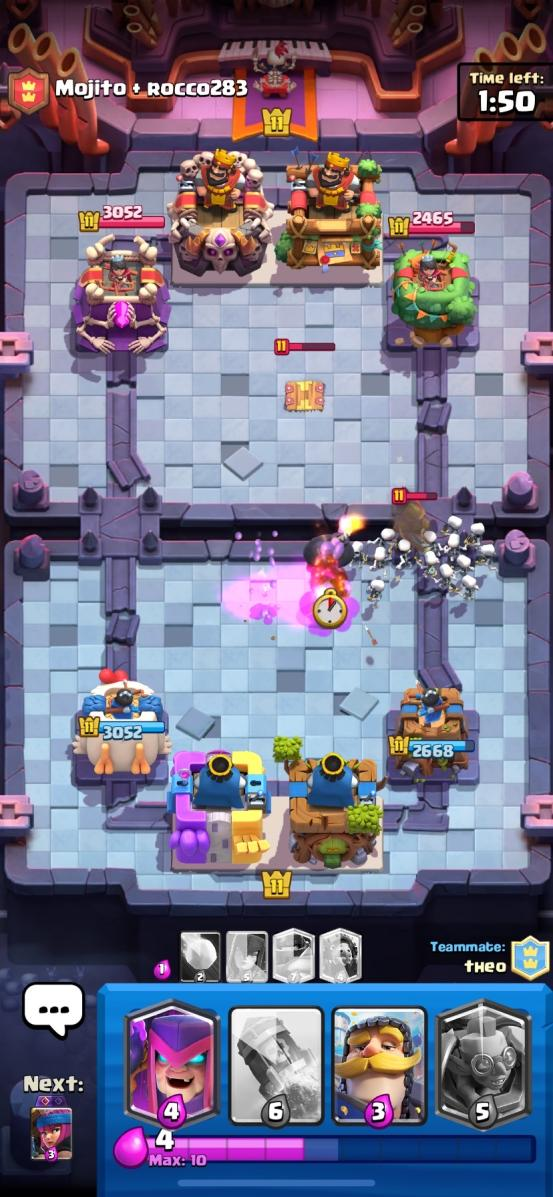EKingTower: (167, 151, 273, 276), (275, 150, 381, 271)
EMusk: (391, 487, 438, 551)
ETesla: (284, 380, 322, 411)
EnemyPrincessTower: (72, 235, 168, 353), (392, 245, 477, 347)
OLarry: (475, 542, 497, 572), (370, 545, 389, 578), (460, 573, 480, 602), (423, 551, 438, 589), (367, 578, 385, 609), (439, 532, 460, 558), (396, 539, 413, 571), (465, 523, 484, 548), (440, 563, 455, 593), (442, 514, 461, 535), (423, 530, 441, 552), (351, 543, 366, 568), (456, 554, 473, 576), (378, 528, 394, 545)
OwnKingTower: (167, 751, 270, 870), (285, 753, 382, 869)
OwnPrincessTower: (74, 671, 169, 774), (387, 680, 475, 783)
